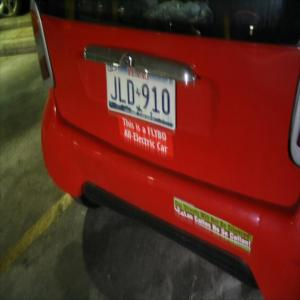Vehicle-registration-plate: (102, 64, 179, 129)
